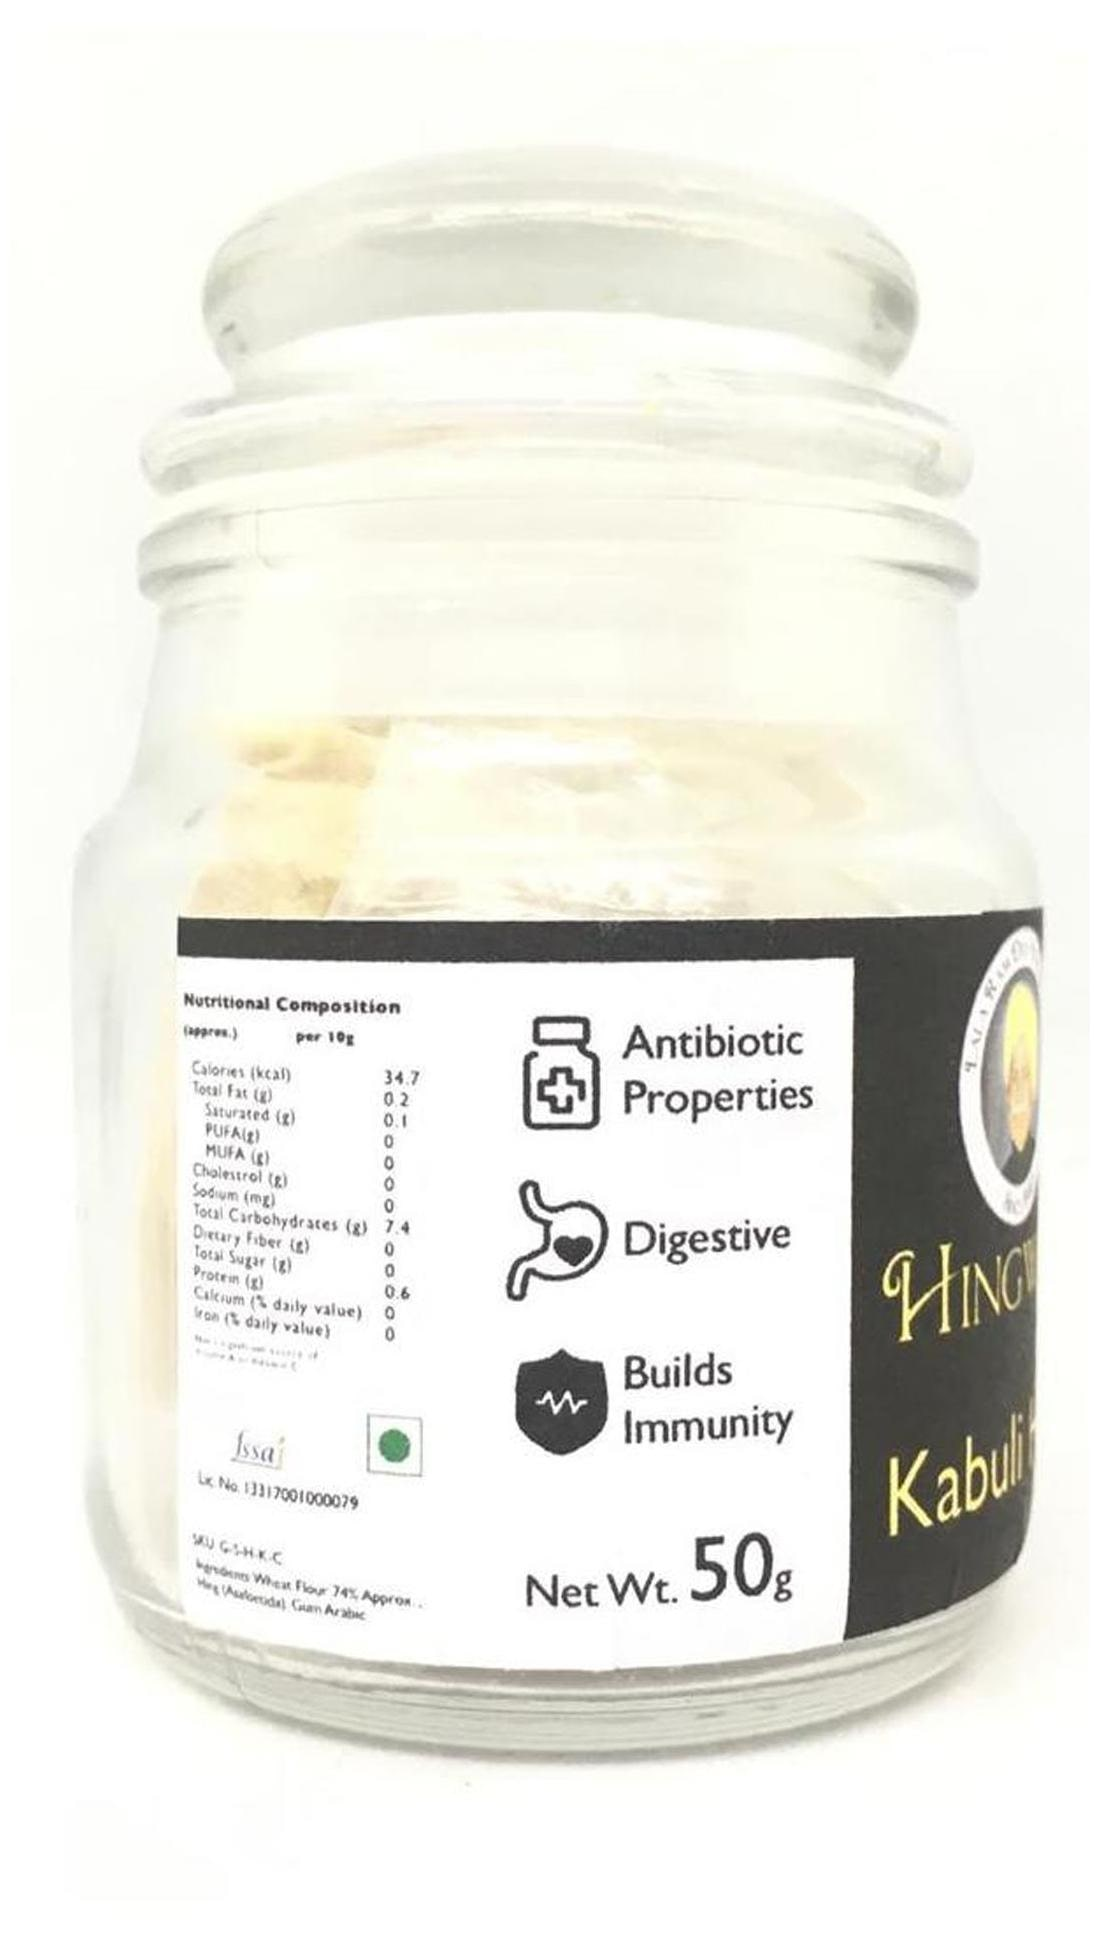fssai: (230, 1428, 288, 1470)
